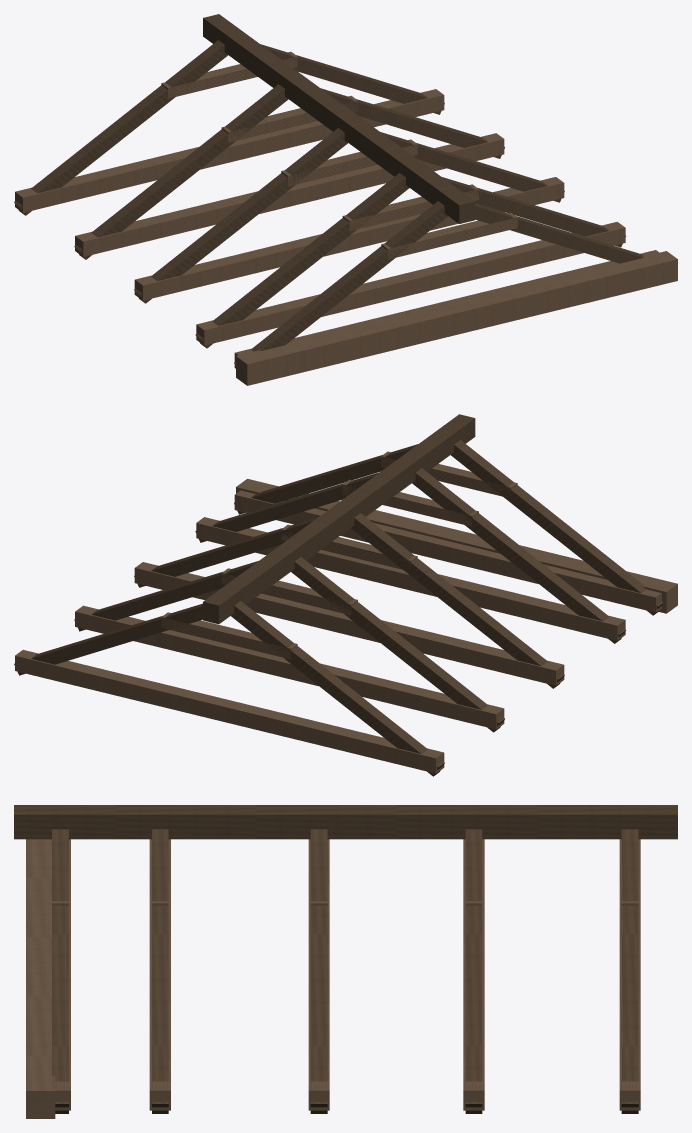
File: part_beam.glb
The picture shows the model from 3 angles, top to bottom: view 1: azimuth 30°, elevation 25°; view 2: azimuth 150°, elevation 25°; view 3: azimuth 270°, elevation 25°; orthographic projection. The views are drawn at different scales.
Parts seen in each view (by area): view 1: beam; view 2: beam; view 3: beam.
Part boxes in pixels (x1,y1,x2,y2): beam: (14, 14, 677, 385); beam: (14, 414, 677, 776); beam: (14, 805, 677, 1118).
Bounding box in the file's own units: 4.58 × 1.36 × 4.72.
2 materials, 2 textured.
